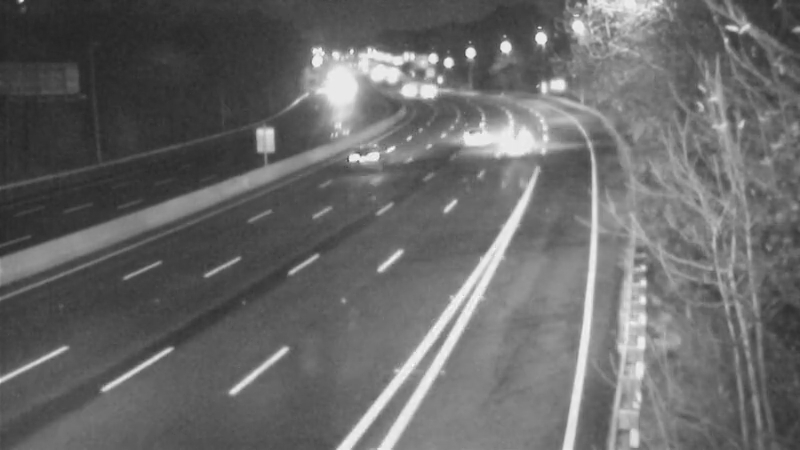vehicle: (316, 111, 396, 191), (444, 117, 494, 167), (487, 114, 537, 164)
